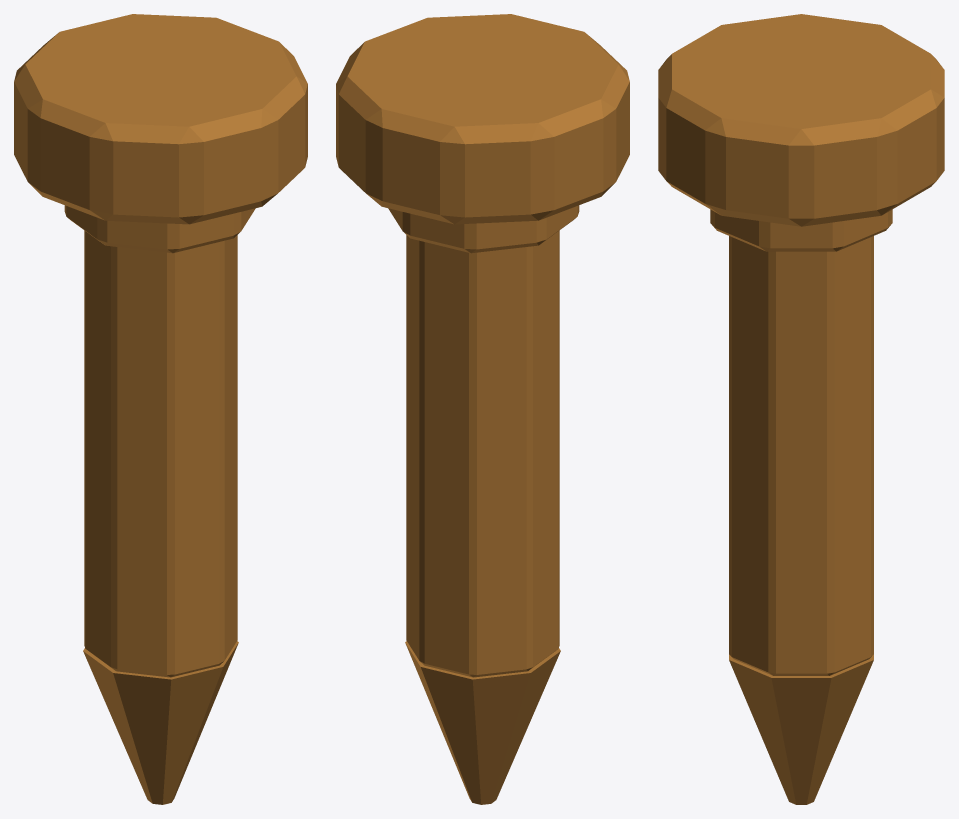
File: Bridge_Nail_LowPoly.fbx
3 renders of one model, left to right at view 1: azimuth 30°, elevation 25°; view 2: azimuth 150°, elevation 25°; view 3: azimuth 270°, elevation 25°, orthographic.
Visible parts, largest first — view 1: Bridge_Nail_LowPoly_Mesh; view 2: Bridge_Nail_LowPoly_Mesh; view 3: Bridge_Nail_LowPoly_Mesh.
Part boxes in pixels (<box>): Bridge_Nail_LowPoly_Mesh: <box>14,14,307,804</box>; Bridge_Nail_LowPoly_Mesh: <box>336,14,629,804</box>; Bridge_Nail_LowPoly_Mesh: <box>658,14,944,804</box>.
Size of the model in its own units: 0.1303 by 0.358 by 0.1274.
